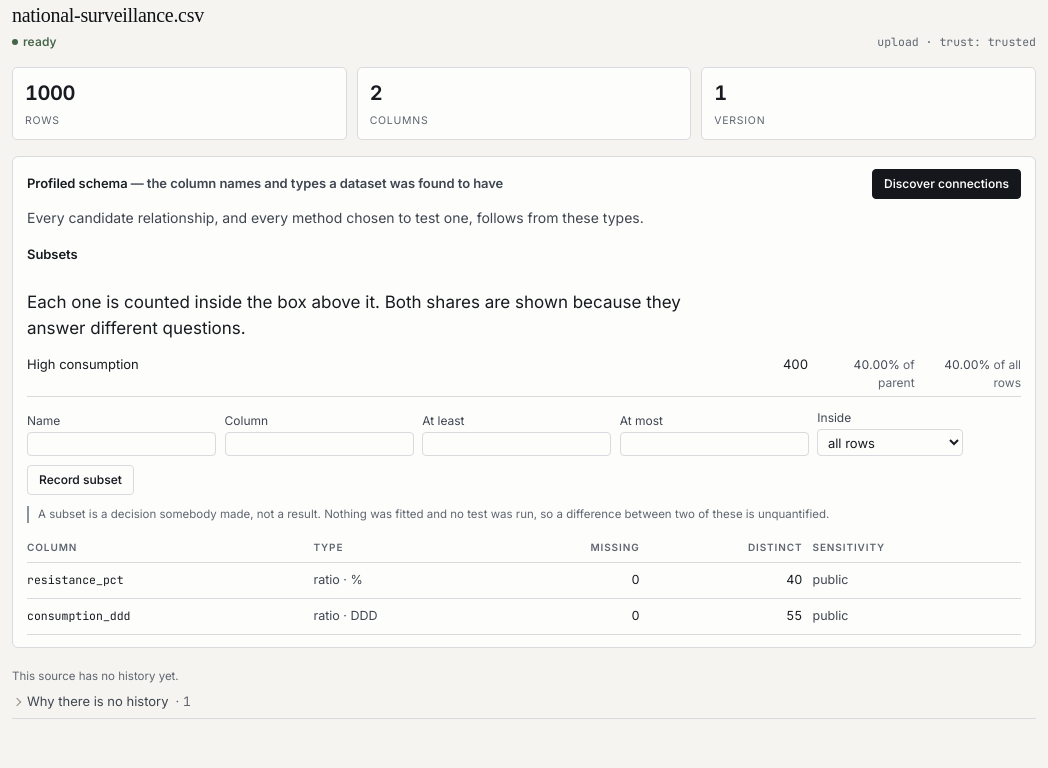
pressing a subset shows the column it was drawn on › says so when the subset was drawn on a column this profile does not have
Expected: the heading "national-surveillance.csv" is shown, [12, 4, 204, 26]
What coordinates should you click on to do the following:
click the button "High consumption"
I would click on:
 (83, 364)
Its box is [27, 355, 774, 374].
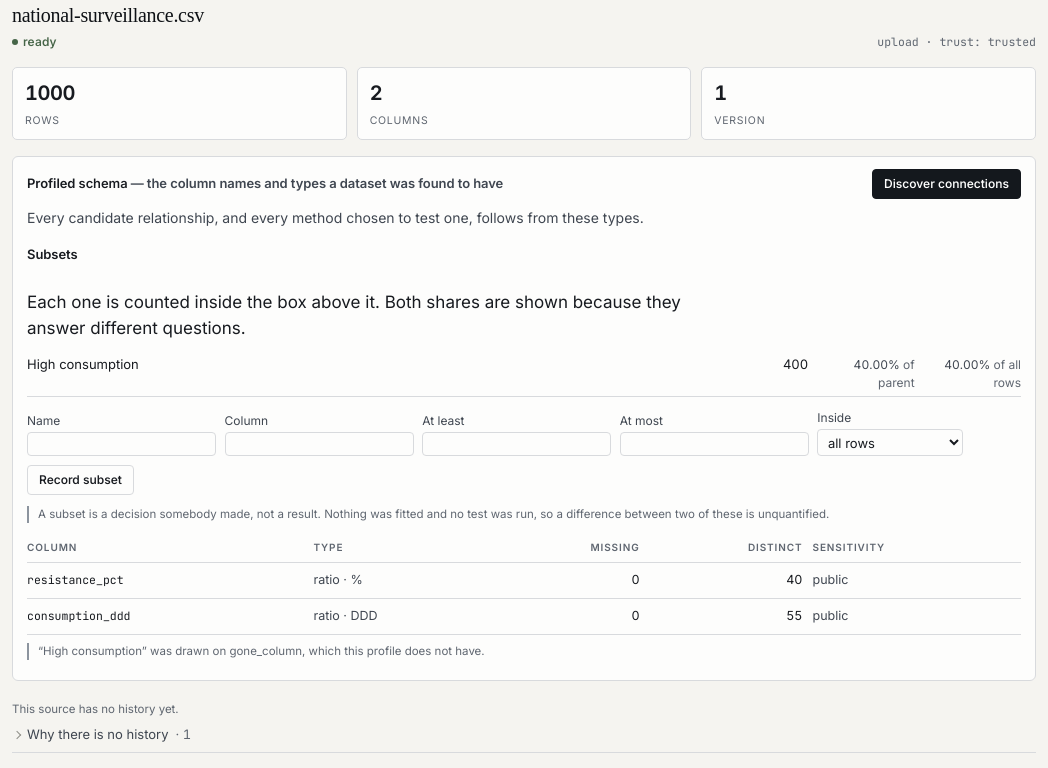
Expected: the text "which this profile does not have" is shown, [38, 644, 485, 658]
